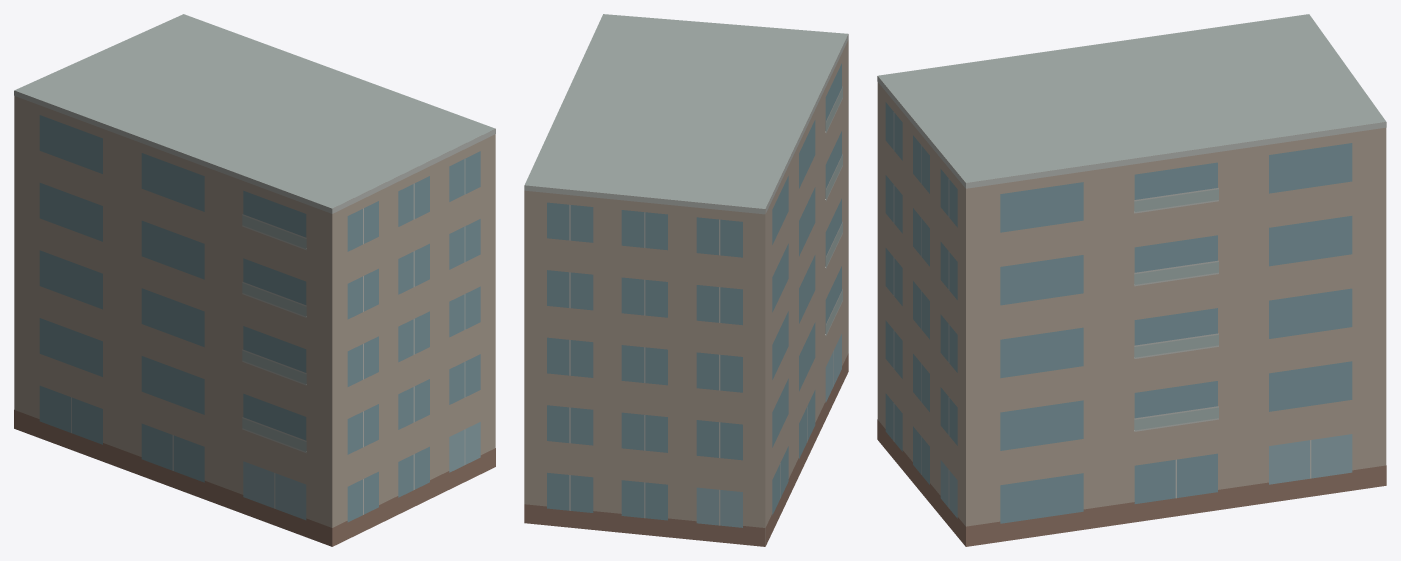
File: survey-upis-32898520.glb
3 views of the same model, side by side, from view 1: azimuth 30°, elevation 25°; view 2: azimuth 150°, elevation 25°; view 3: azimuth 270°, elevation 25° (orthographic). The views are drawn at different scales.
Parts seen in each view (by area): view 1: survey-upis-32898520.tmp; view 2: survey-upis-32898520.tmp; view 3: survey-upis-32898520.tmp.
Boxes of the visible parts, x1=… form: survey-upis-32898520.tmp: x1=14, y1=14, x2=495, y2=546; survey-upis-32898520.tmp: x1=524, y1=14, x2=848, y2=546; survey-upis-32898520.tmp: x1=877, y1=14, x2=1386, y2=546.
Bounding box in the file's own units: 15.35 × 15.4 × 19.54.
